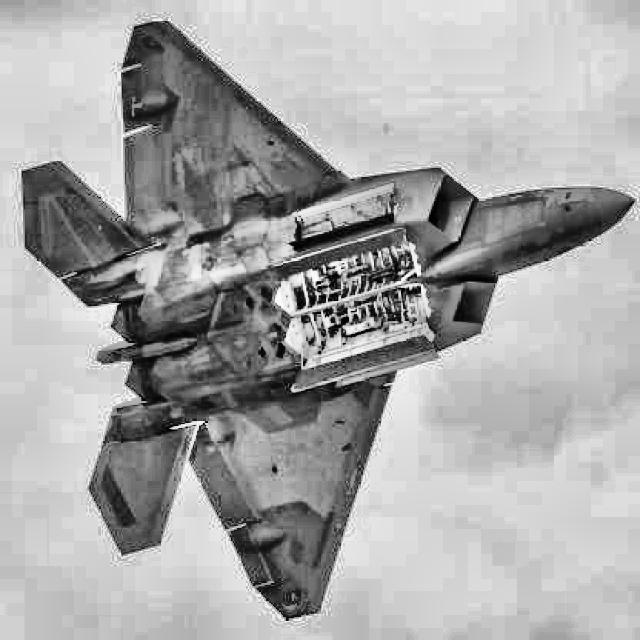F22: (19, 20, 636, 622)
